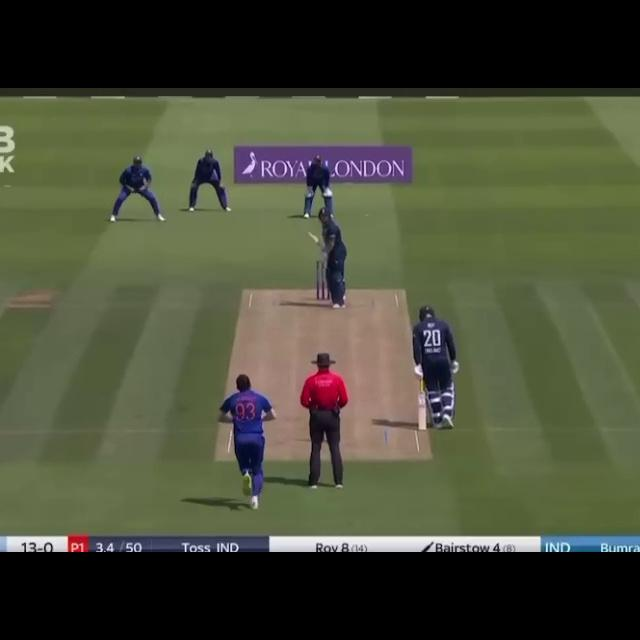umpire: (294, 347, 356, 496)
